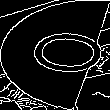O_E: (6, 29, 104, 81)
